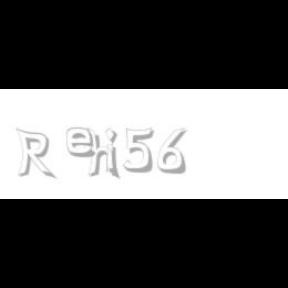5: (122, 128, 154, 174)
6: (158, 128, 186, 176)
R: (15, 128, 53, 180)
e: (66, 128, 100, 158)
h: (86, 128, 122, 180)
i: (105, 128, 121, 176)
